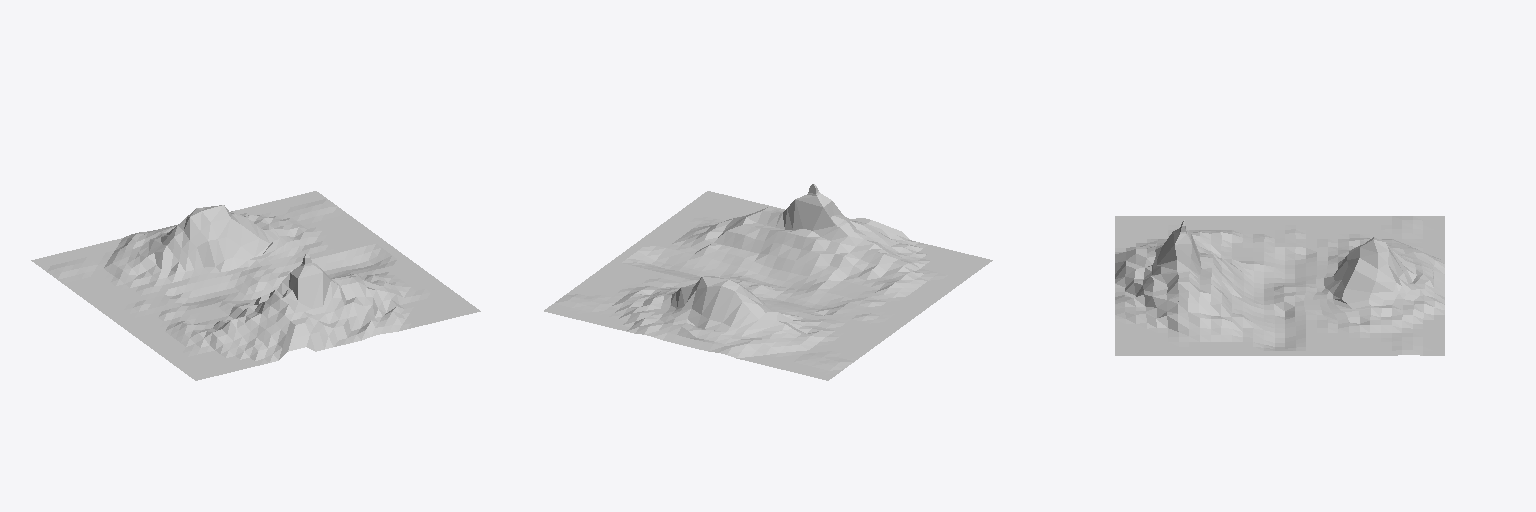
The model's file is WULandscape.obj.
3 renders of one model, left to right at view 1: azimuth 30°, elevation 25°; view 2: azimuth 150°, elevation 25°; view 3: azimuth 270°, elevation 25°, orthographic.
Visible parts, largest first — view 1: Grid; view 2: Grid; view 3: Grid.
Boxes of the visible parts, x1=… form: Grid: x1=31, y1=191, x2=480, y2=380; Grid: x1=544, y1=184, x2=992, y2=380; Grid: x1=1115, y1=216, x2=1444, y2=355.
Bounding box in the file's own units: 18 × 4.42 × 18.03.